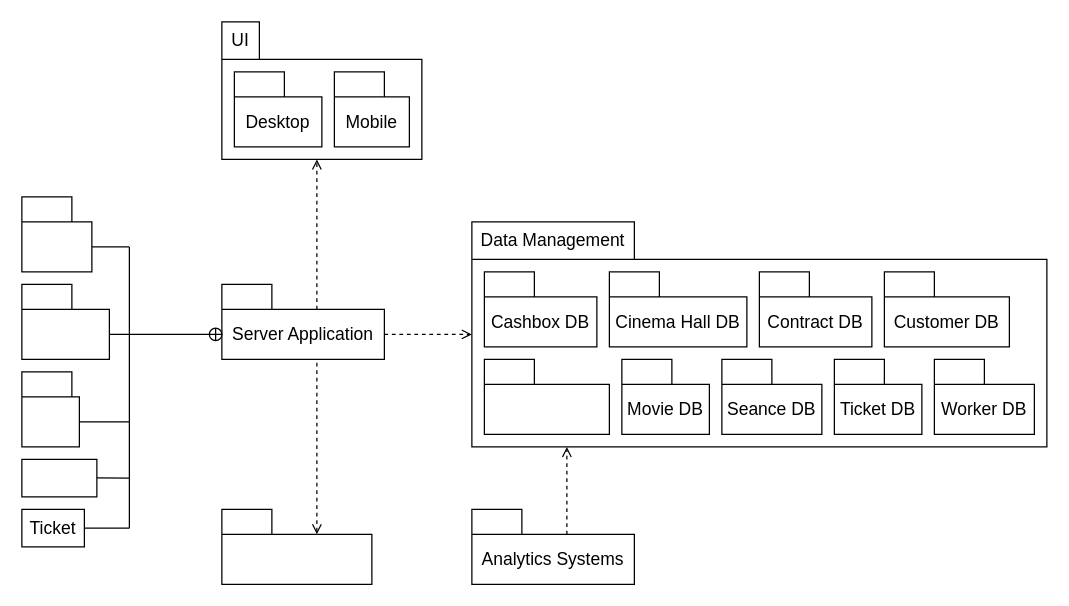
The diagram is 1069 pixels wide and 606 high, and some of its shapes have lost their labels. The centre of each missing label's shape, as x and y in pixels:
"Affiche" belongs at pixel 56 234.
"Distributor DB" belongs at pixel 546 396.
"Employee" belongs at pixel 65 321.
"External Systems" belongs at pixel 296 546.
"Room" belongs at pixel 50 409.
"Seance" belongs at pixel 59 477.
